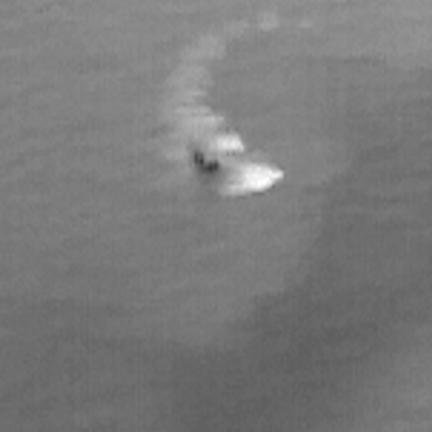flukeprints: (222, 159, 284, 196), (208, 132, 245, 155)
